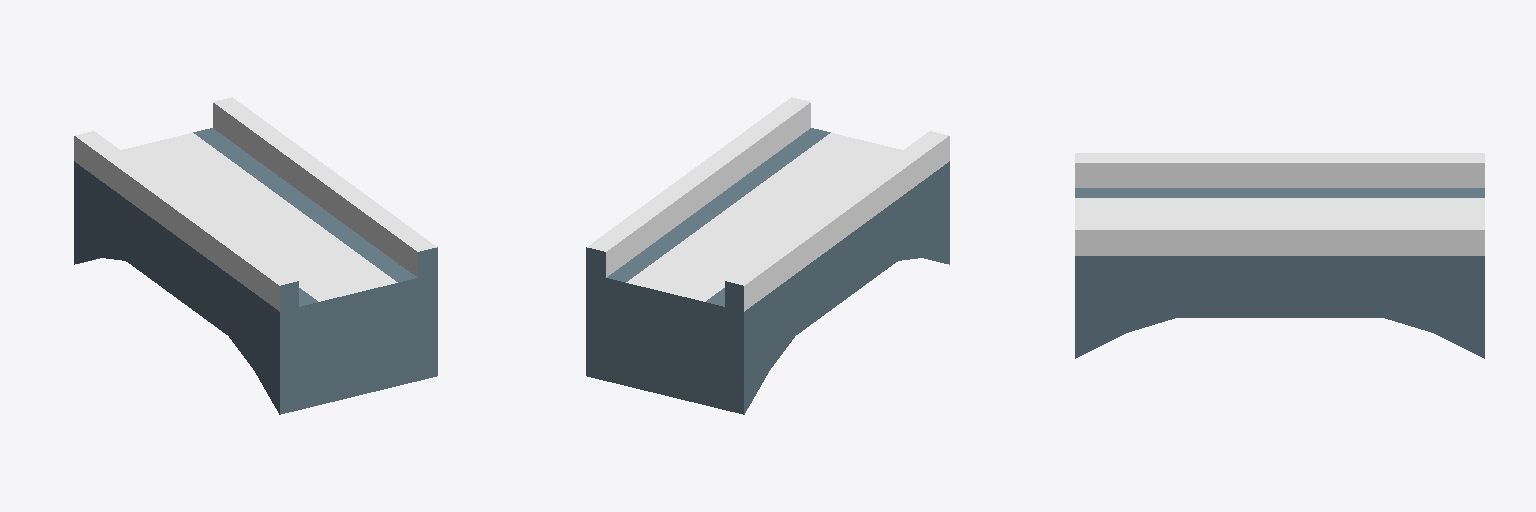
File: model-triangulated.obj
The picture shows the model from 3 angles: view 1: azimuth 30°, elevation 25°; view 2: azimuth 150°, elevation 25°; view 3: azimuth 270°, elevation 25°; orthographic projection.
Visible parts, largest first — view 1: group[number redacted]; view 2: group[number redacted]; view 3: group[number redacted].
Boxes of the visible parts, x1,y1,x2,y2 form: group[number redacted]: [74, 97, 437, 414]; group[number redacted]: [586, 97, 949, 414]; group[number redacted]: [1075, 153, 1484, 358].
Size of the model in its own units: 0.32 by 0.25 by 0.72.